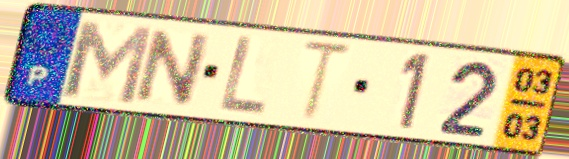1: (396, 51, 432, 133)
2: (431, 55, 506, 141)
L: (215, 32, 270, 119)
M: (59, 17, 157, 107)
N: (129, 27, 217, 109)
T: (297, 37, 358, 127)
